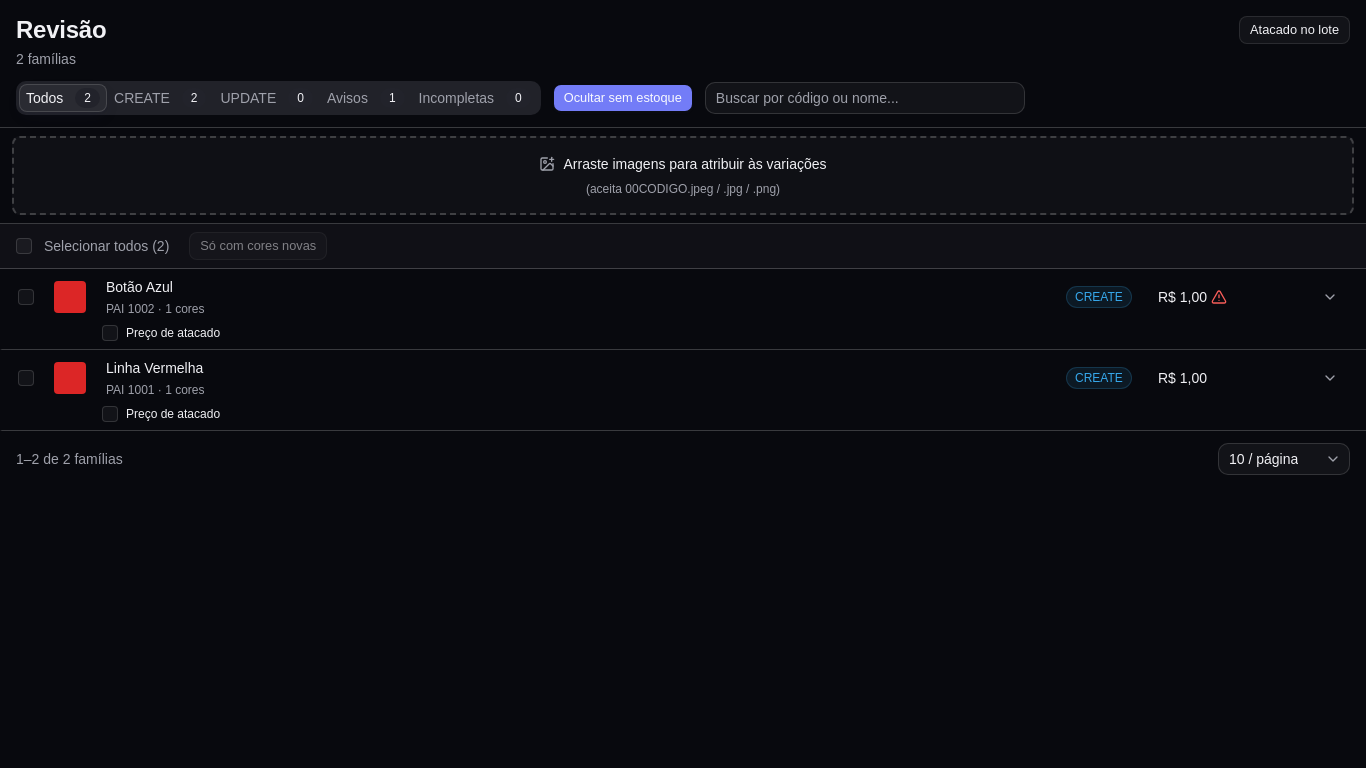
it: Revisao — ações em massa › footer aparece com botão Publicar ao selecionar família publicável
Click the checkbox named "Selecionar todas as famílias publicáveis" at (24, 246), box [16,238,32,254]
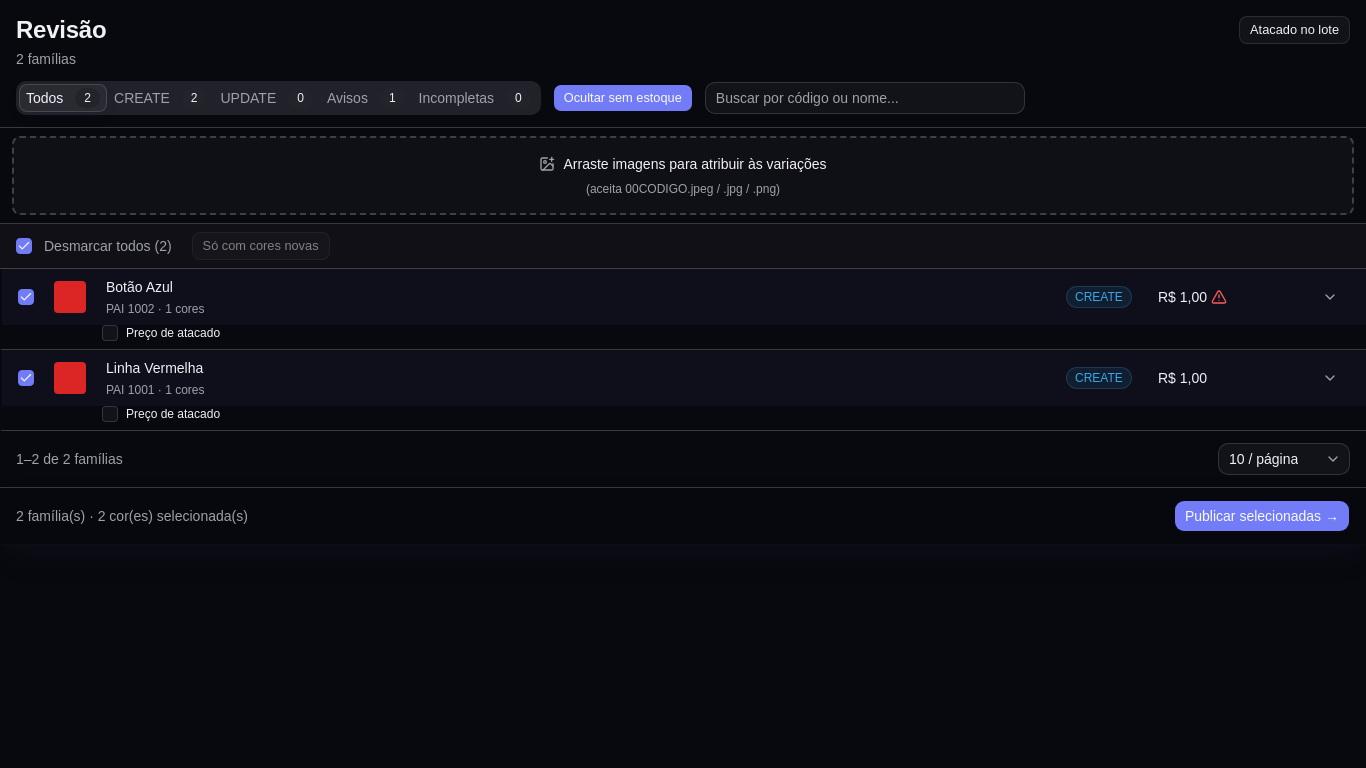
Expected: the button "Publicar selecionadas →" is shown, [1174,500,1350,532]
